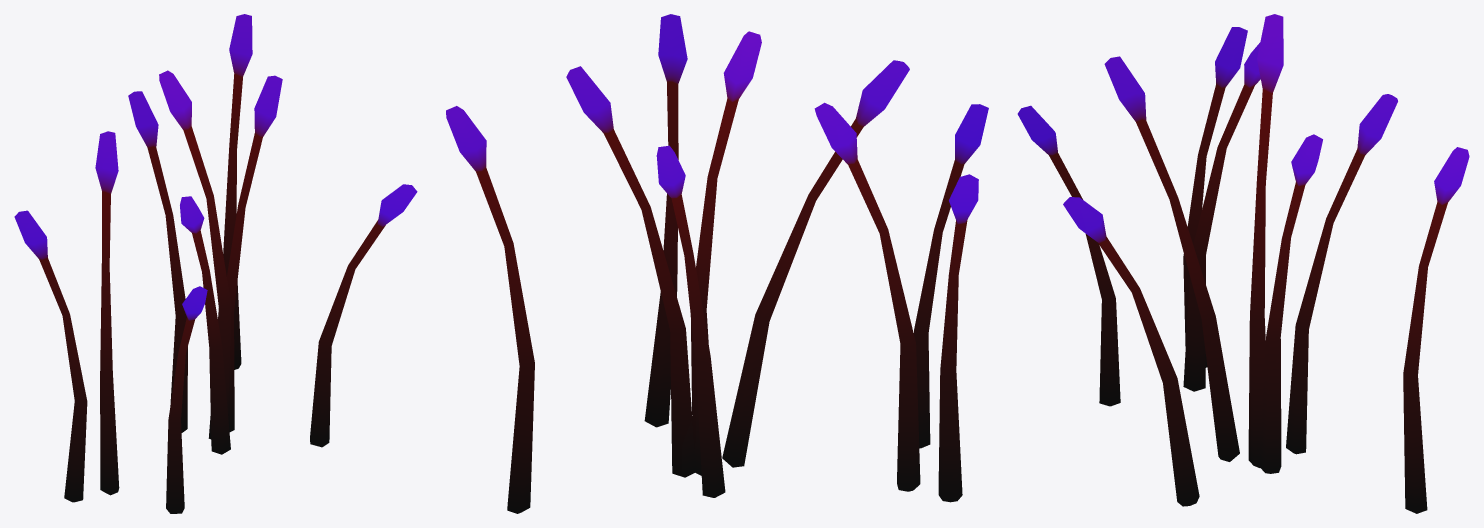
Rendered from SM_Env_Flowers_03.gltf.
3 views of the same model, side by side, from view 1: azimuth 30°, elevation 25°; view 2: azimuth 150°, elevation 25°; view 3: azimuth 270°, elevation 25° (orthographic). The views are drawn at different scales.
Parts seen in each view (by area): view 1: SM_Env_Flowers_03_LOD0; view 2: SM_Env_Flowers_03_LOD0; view 3: SM_Env_Flowers_03_LOD0.
Boxes of the visible parts, x1,y1,x2,y2 form: SM_Env_Flowers_03_LOD0: (14, 14, 417, 513); SM_Env_Flowers_03_LOD0: (446, 14, 988, 513); SM_Env_Flowers_03_LOD0: (1017, 14, 1469, 513).
Size of the model in its own units: 1.19 by 1.28 by 1.23.
